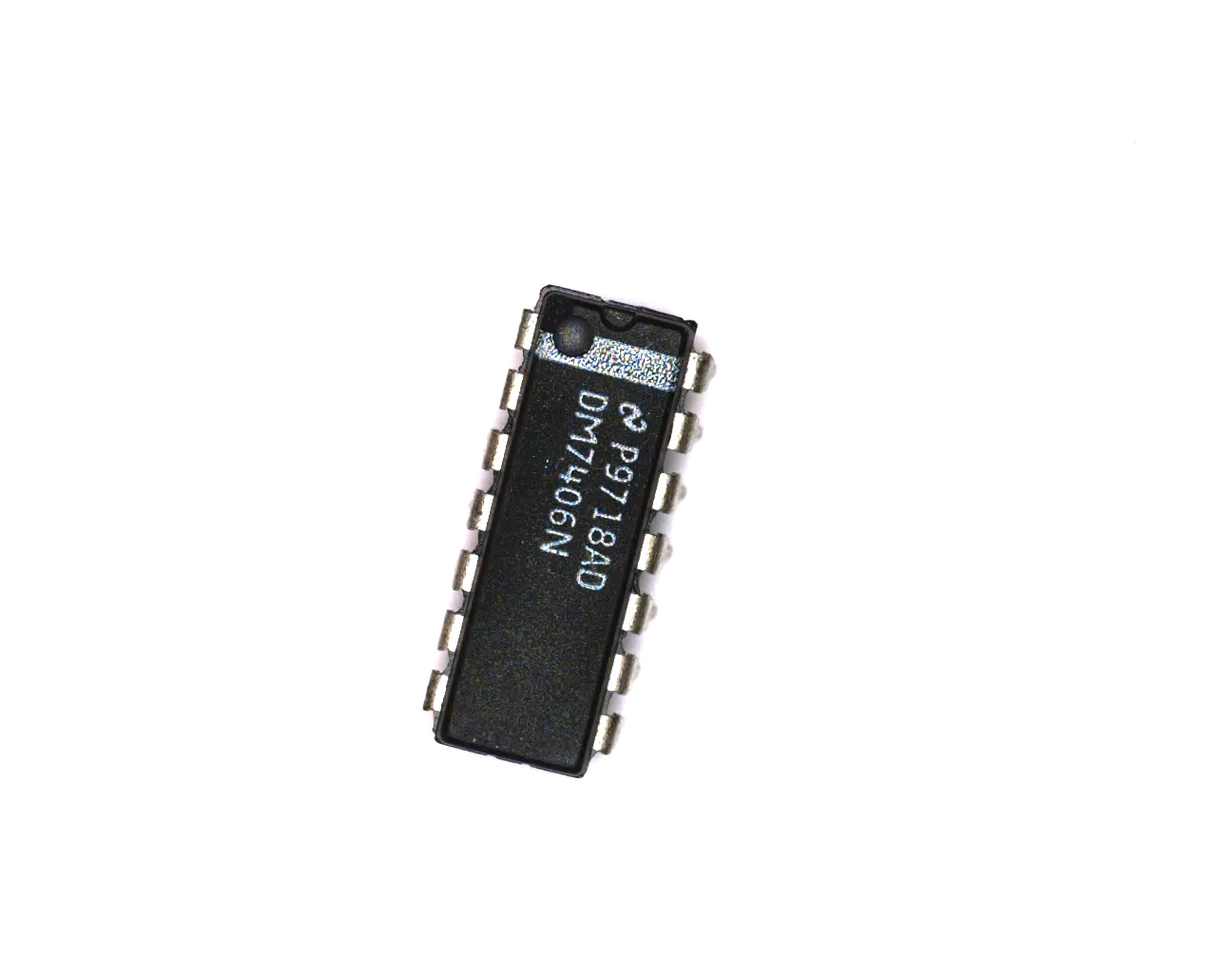IC: (401, 270, 732, 801)
notch: (596, 293, 642, 342)
